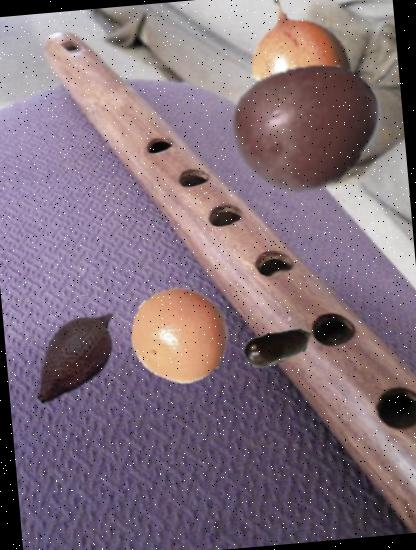Cherry: (226, 41, 388, 204)
Eggplant: (238, 305, 320, 387)
Granadilla: (223, 0, 373, 137)
Grapefruit: (126, 282, 234, 390)
Salak: (13, 293, 138, 419)
